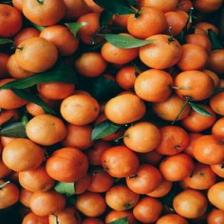orange: (37, 84, 100, 183), (0, 0, 103, 56), (0, 137, 55, 209), (102, 147, 173, 198), (159, 135, 224, 190), (106, 186, 188, 224), (0, 27, 58, 79), (114, 0, 193, 38), (124, 122, 190, 156), (76, 43, 139, 77), (20, 190, 81, 224), (116, 67, 174, 102), (178, 22, 219, 71), (26, 103, 66, 146), (140, 34, 181, 69), (175, 70, 218, 101), (104, 93, 146, 124), (174, 190, 208, 219), (182, 105, 216, 133), (75, 171, 114, 195), (153, 96, 186, 121), (76, 192, 106, 218), (208, 182, 224, 224), (86, 140, 111, 166), (0, 90, 28, 110), (196, 0, 224, 13), (210, 49, 224, 73), (211, 92, 224, 115), (213, 118, 224, 141), (177, 105, 190, 120), (1, 80, 15, 86)
